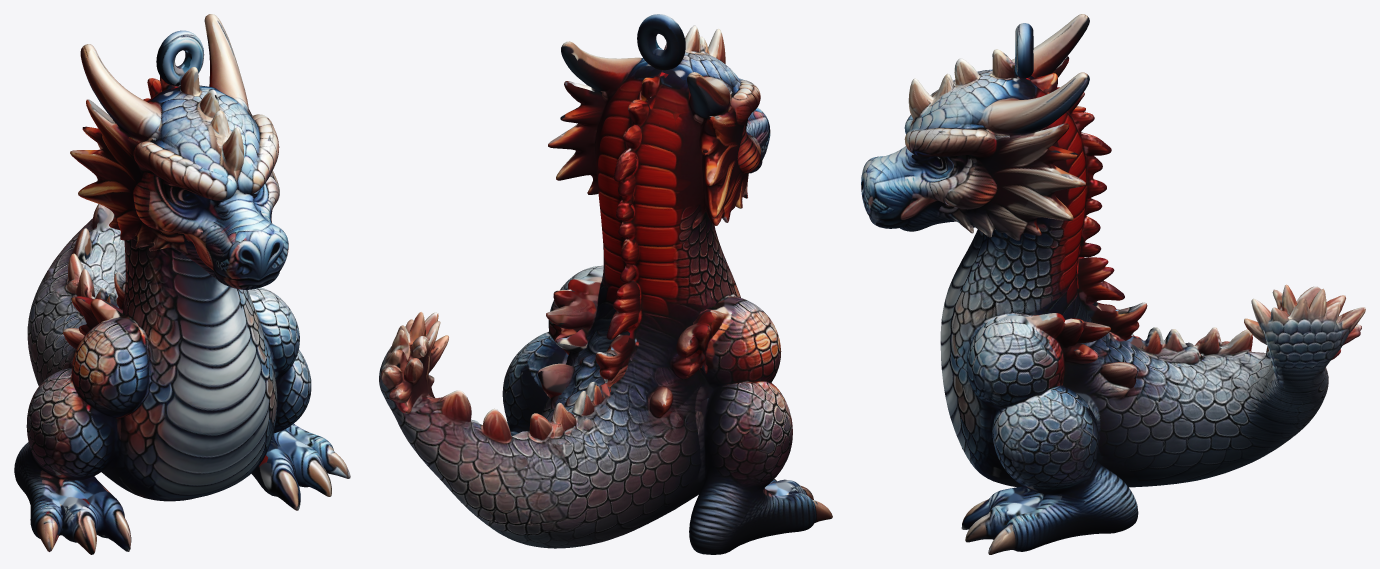
The model's file is dragon.glb.
The picture shows the model from 3 angles, left to right: view 1: azimuth 30°, elevation 25°; view 2: azimuth 150°, elevation 25°; view 3: azimuth 270°, elevation 25°; orthographic projection. The views are drawn at different scales.
Parts seen in each view (by area): view 1: Dragon; view 2: Dragon; view 3: Dragon.
Boxes of the visible parts, x1,y1,x2,y2 form: Dragon: (14, 14, 350, 554); Dragon: (379, 14, 832, 554); Dragon: (861, 14, 1365, 554).
Bounding box in the file's own units: 0.1664 × 0.25 × 0.2463.
Materials: 1 (1 with a texture image).
